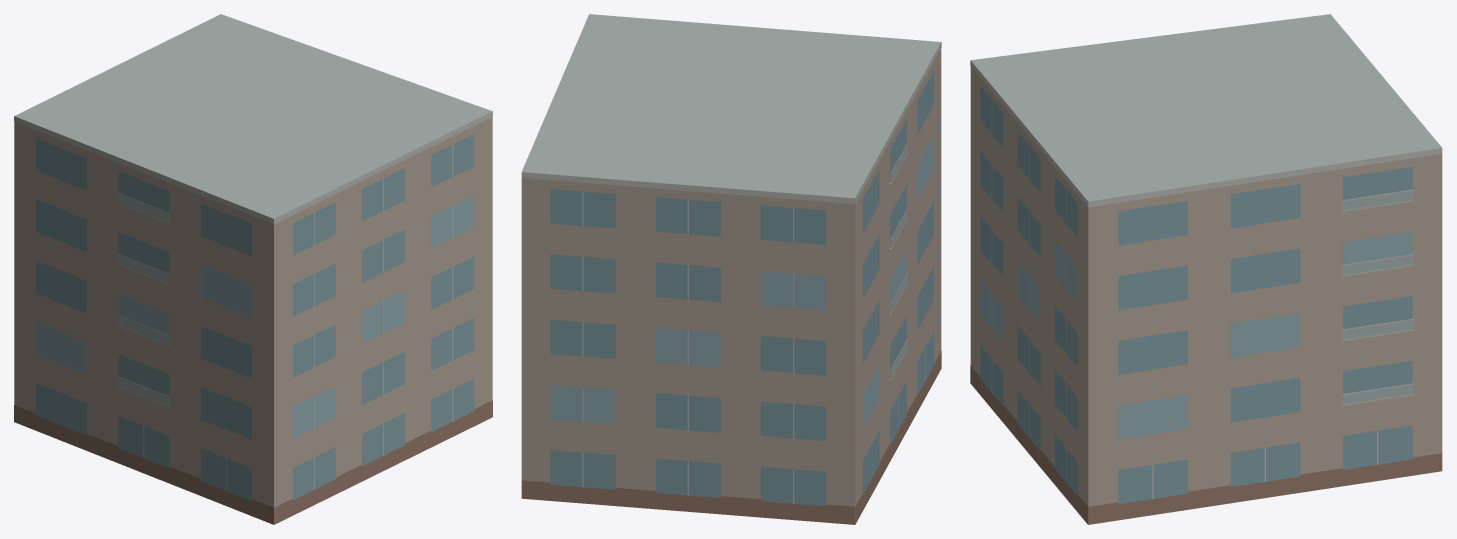
File: survey-upis-32747640.glb
The picture shows the model from 3 angles, left to right: view 1: azimuth 30°, elevation 25°; view 2: azimuth 150°, elevation 25°; view 3: azimuth 270°, elevation 25°; orthographic projection. The views are drawn at different scales.
Parts seen in each view (by area): view 1: survey-upis-32747640.tmp; view 2: survey-upis-32747640.tmp; view 3: survey-upis-32747640.tmp.
Part boxes in pixels (bbox=[...]): survey-upis-32747640.tmp: bbox=[14, 14, 492, 524]; survey-upis-32747640.tmp: bbox=[521, 14, 941, 524]; survey-upis-32747640.tmp: bbox=[970, 14, 1442, 524].
Bounding box in the file's own units: 17.19 × 13.8 × 18.27.
